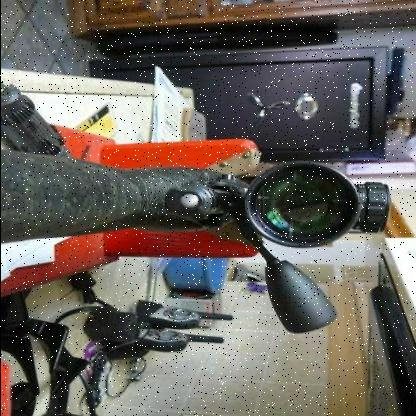rifle: (1, 128, 389, 338)
